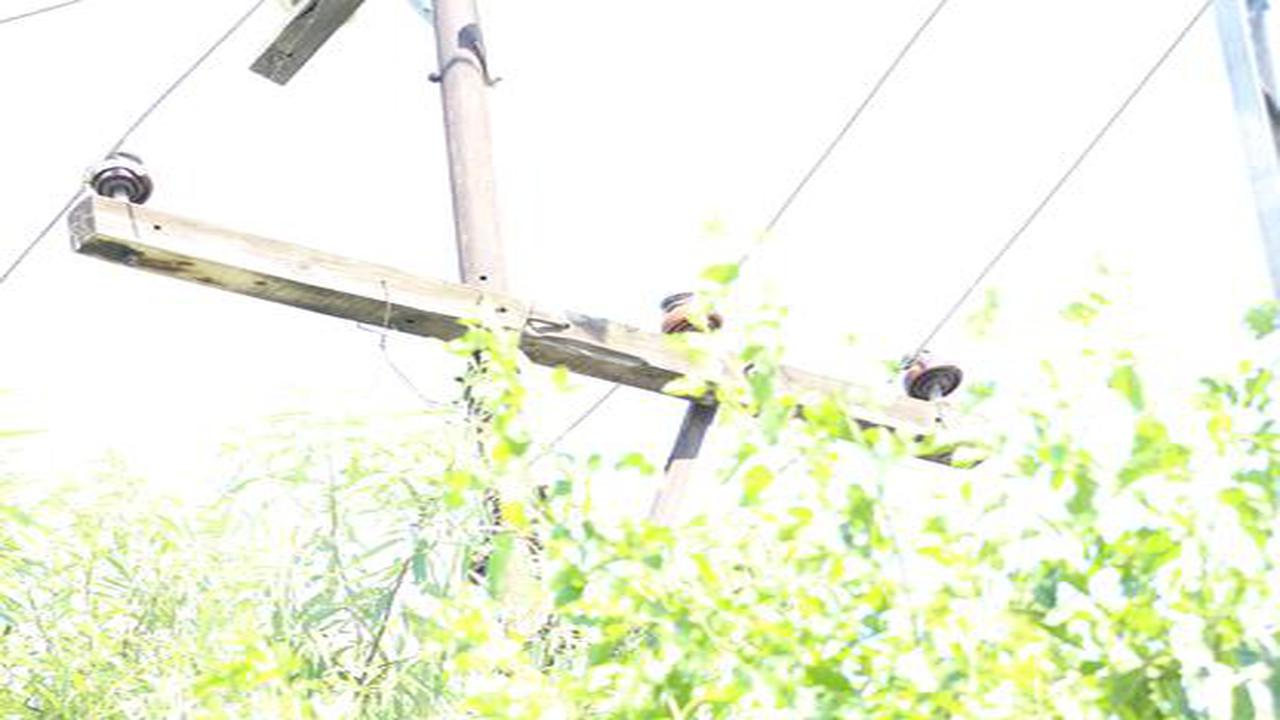defect_pin: (84, 148, 157, 209)
insulator_pin: (894, 345, 968, 404), (655, 283, 730, 338)
